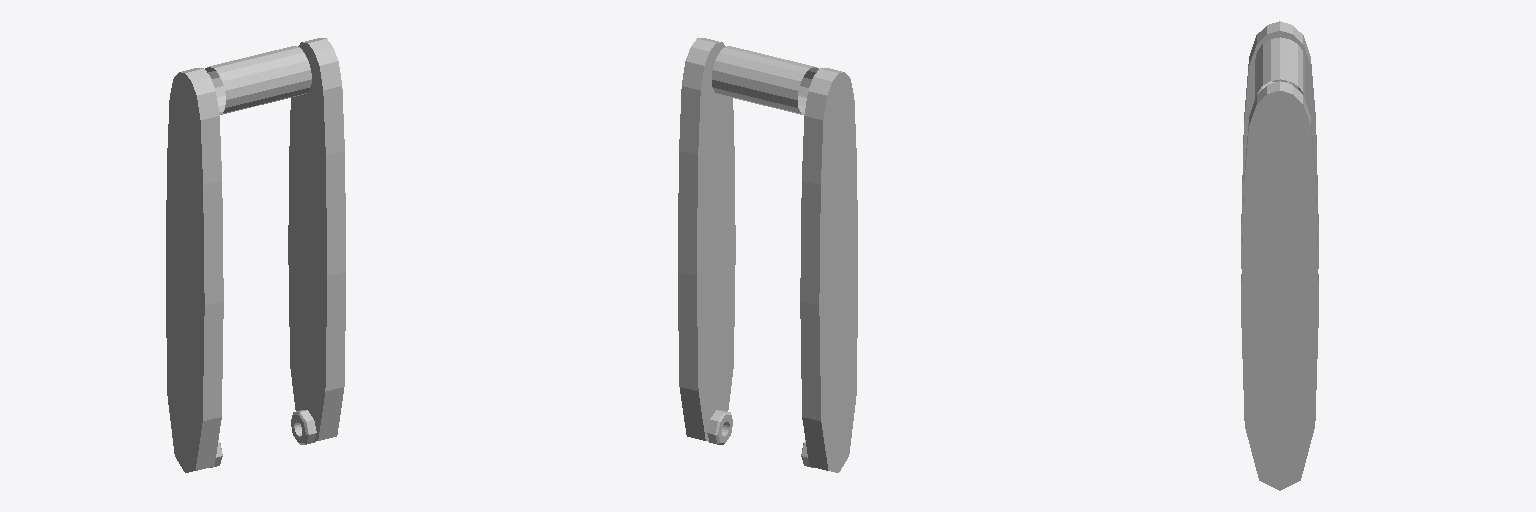
Rendered from robotLower.obj.
3 renders of one model, left to right at view 1: azimuth 30°, elevation 25°; view 2: azimuth 150°, elevation 25°; view 3: azimuth 270°, elevation 25°, orthographic.
Parts seen in each view (by area): view 1: polySurface76; view 2: polySurface76; view 3: polySurface76.
Boxes of the visible parts, <box> form: polySurface76: <box>166,38,345,472</box>; polySurface76: <box>678,38,857,472</box>; polySurface76: <box>1241,21,1318,490</box>.
Bounding box in the file's own units: 2.11 × 5.7 × 1.01.